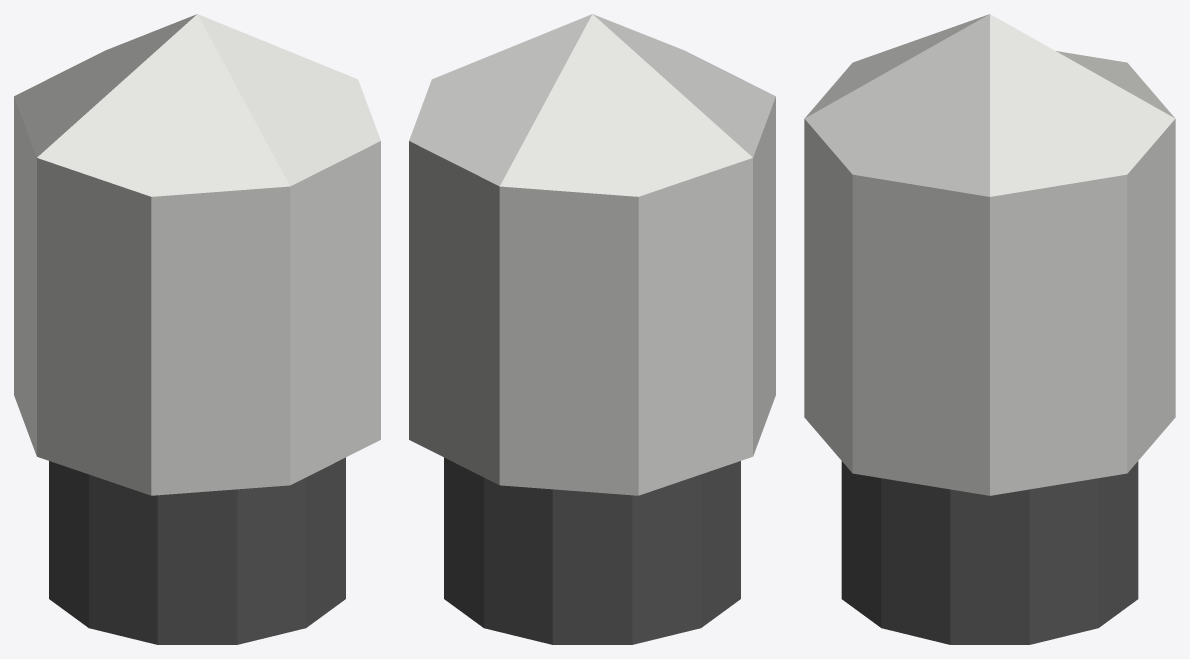
File: LightBulb.gltf
The picture shows the model from 3 angles, left to right: view 1: azimuth 30°, elevation 25°; view 2: azimuth 150°, elevation 25°; view 3: azimuth 270°, elevation 25°; orthographic projection.
Parts seen in each view (by area): view 1: Bulb, LightSocket; view 2: Bulb, LightSocket; view 3: Bulb, LightSocket.
Part boxes in pixels (<box>): Bulb: <box>14,14,380,495</box>; LightSocket: <box>49,457,345,644</box>; Bulb: <box>409,14,775,495</box>; LightSocket: <box>444,457,740,644</box>; Bulb: <box>804,14,1175,495</box>; LightSocket: <box>841,461,1138,644</box>.
Size of the model in its own units: 0.1562 by 0.2641 by 0.1562.
2 materials, 2 textured.
